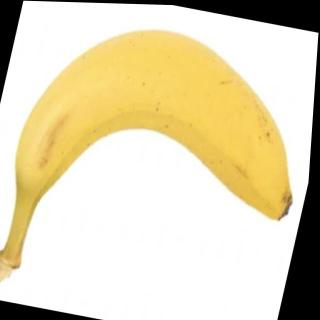banana: (5, 3, 320, 246)
